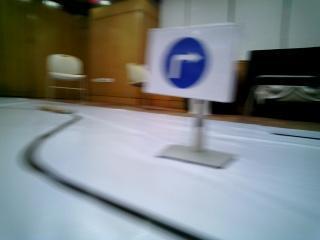right: (151, 26, 226, 94)
